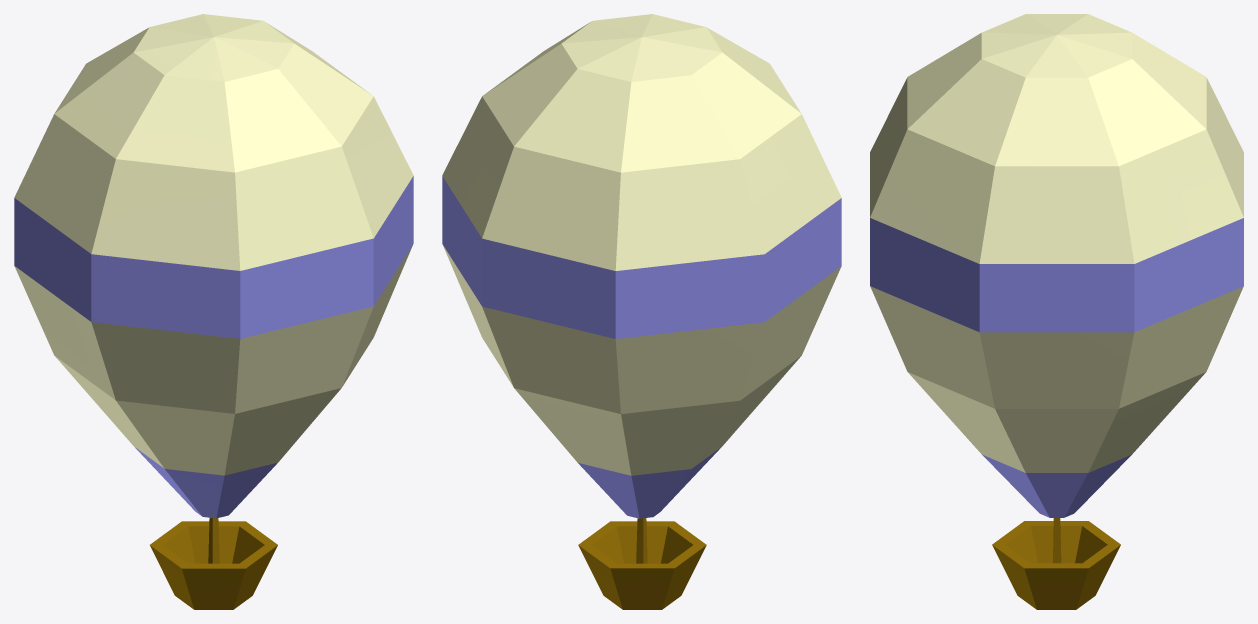
The model's file is Vehicle_Balloon_01.fbx.
3 renders of one model, left to right at view 1: azimuth 30°, elevation 25°; view 2: azimuth 150°, elevation 25°; view 3: azimuth 270°, elevation 25°, orthographic.
Visible parts, largest first — view 1: Vehicle_Balloon_01; view 2: Vehicle_Balloon_01; view 3: Vehicle_Balloon_01.
Part boxes in pixels (x1,y1,x2,y2): Vehicle_Balloon_01: (14,14,413,609); Vehicle_Balloon_01: (442,14,841,609); Vehicle_Balloon_01: (870,14,1243,609).
Bounding box in the file's own units: 336 × 557 × 336.
